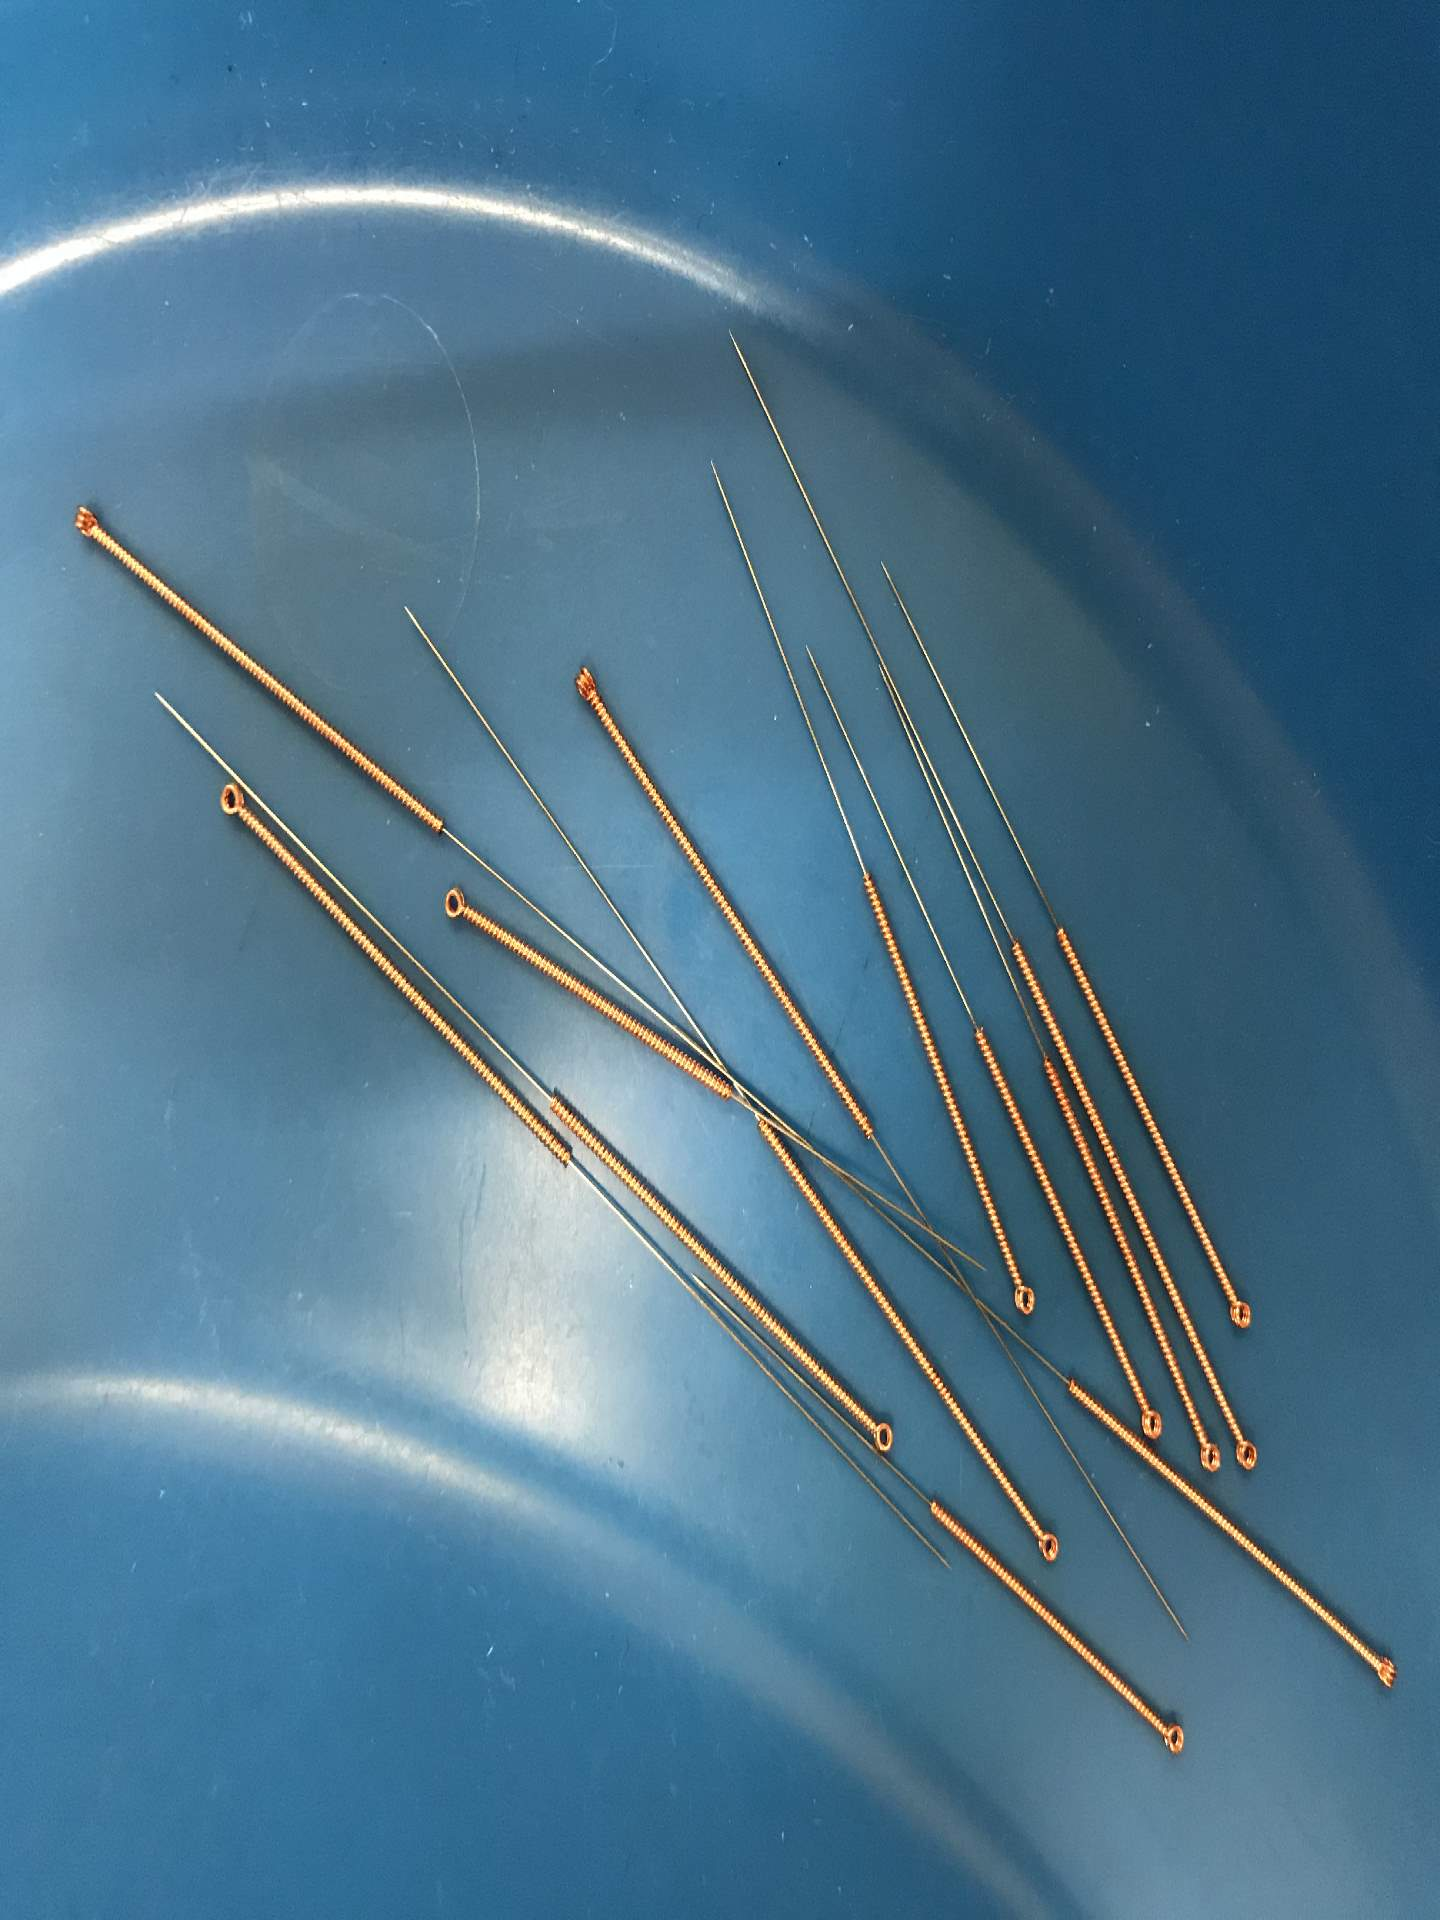needle: (57, 491, 119, 556), (560, 649, 613, 720), (1021, 1504, 1069, 1574), (849, 1404, 906, 1462), (209, 773, 262, 835), (1355, 1643, 1410, 1702), (1145, 1707, 1196, 1767), (1213, 1282, 1265, 1342), (427, 880, 483, 933), (1000, 1268, 1047, 1327), (1189, 1426, 1230, 1483), (1227, 1426, 1268, 1482), (1134, 1391, 1171, 1445)
